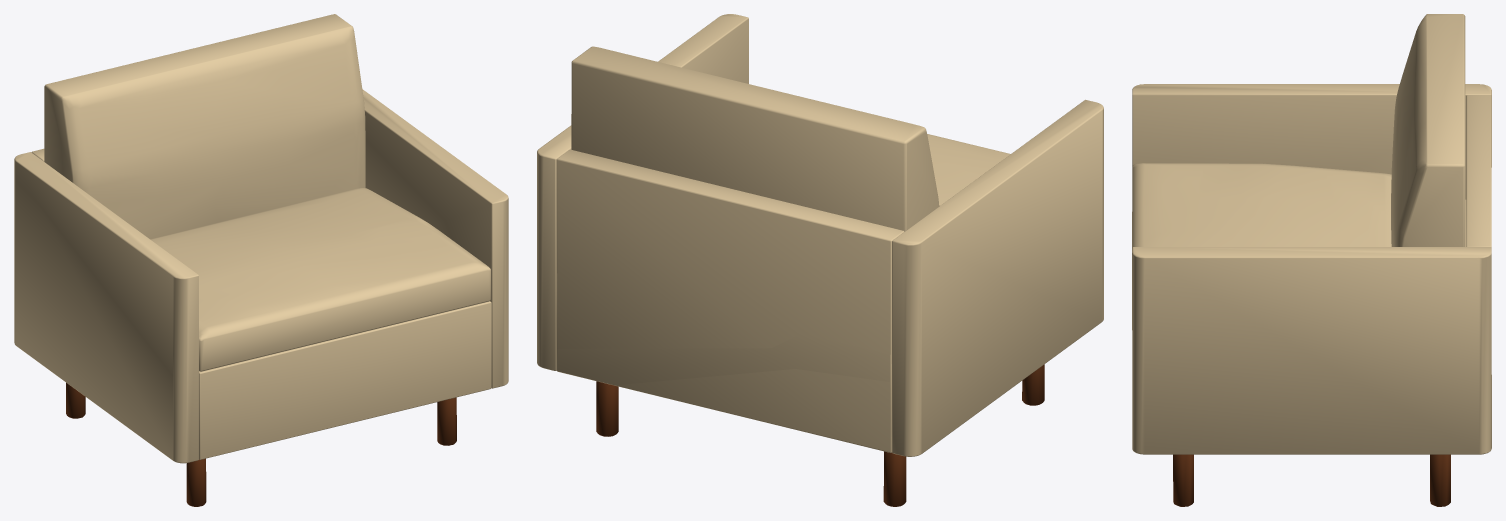
Rendered from HMI_Tuxedo_Classic_Club_Chair_3D.fbx.
The picture shows the model from 3 angles, left to right: view 1: azimuth 30°, elevation 25°; view 2: azimuth 150°, elevation 25°; view 3: azimuth 270°, elevation 25°; orthographic projection. The views are drawn at different scales.
Visible parts, largest first — view 1: Group1; view 2: Group1; view 3: Group1.
Part boxes in pixels (x1,y1,x2,y2): Group1: (14,14,508,506); Group1: (537,14,1103,506); Group1: (1132,14,1491,506).
Bounding box in the file's own units: 384 × 360 × 336.
